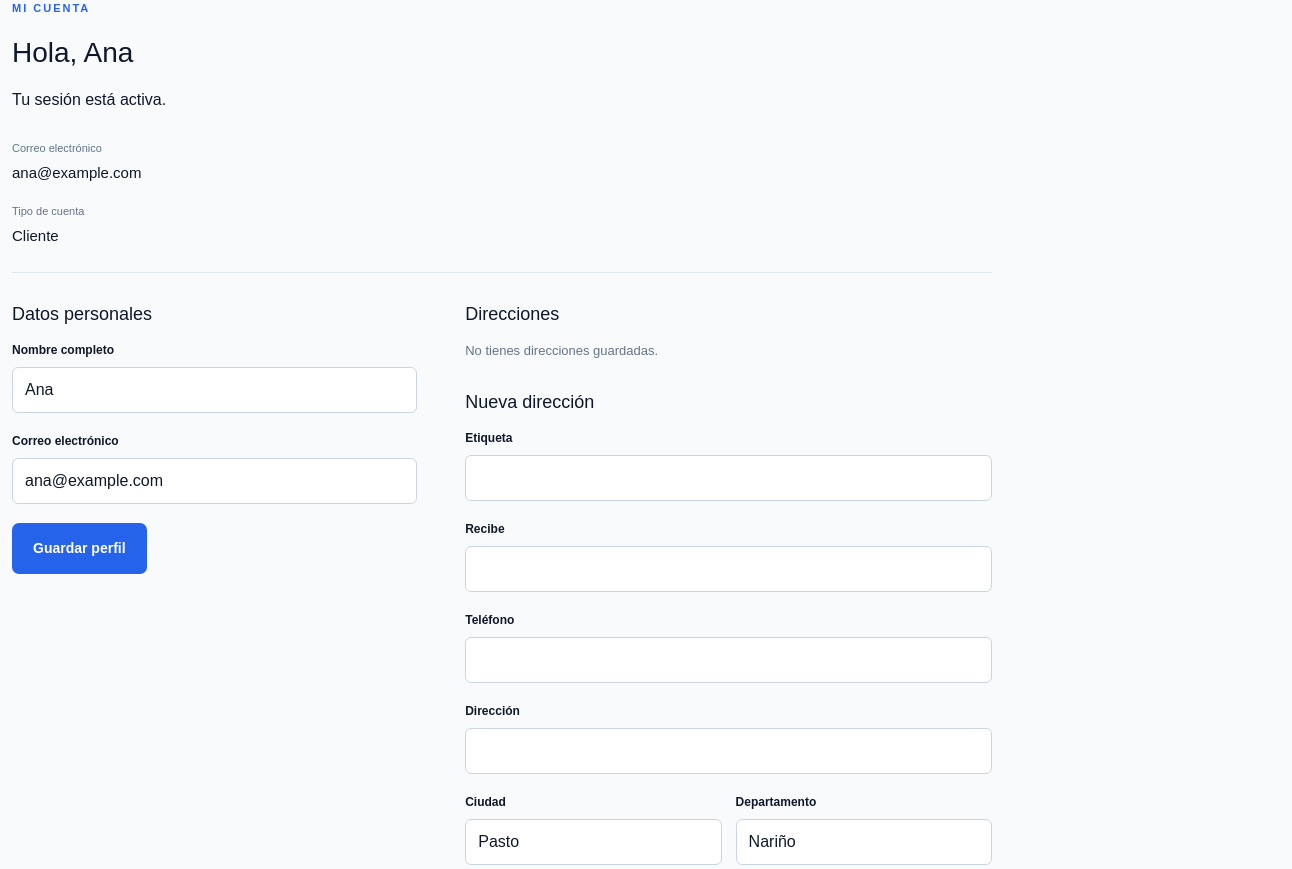
profile and addresses can be edited
This screenshot has width=1292, height=869.
Expected: the heading "Hola, Ana" is shown, [12,36,133,68]
Replace the text in the field labelled "Nombre completo" with "Ana Maria" at (215, 390), box [12,367,417,413]
Click the button "Guardar perfil" at (79, 548), box [12,523,147,574]
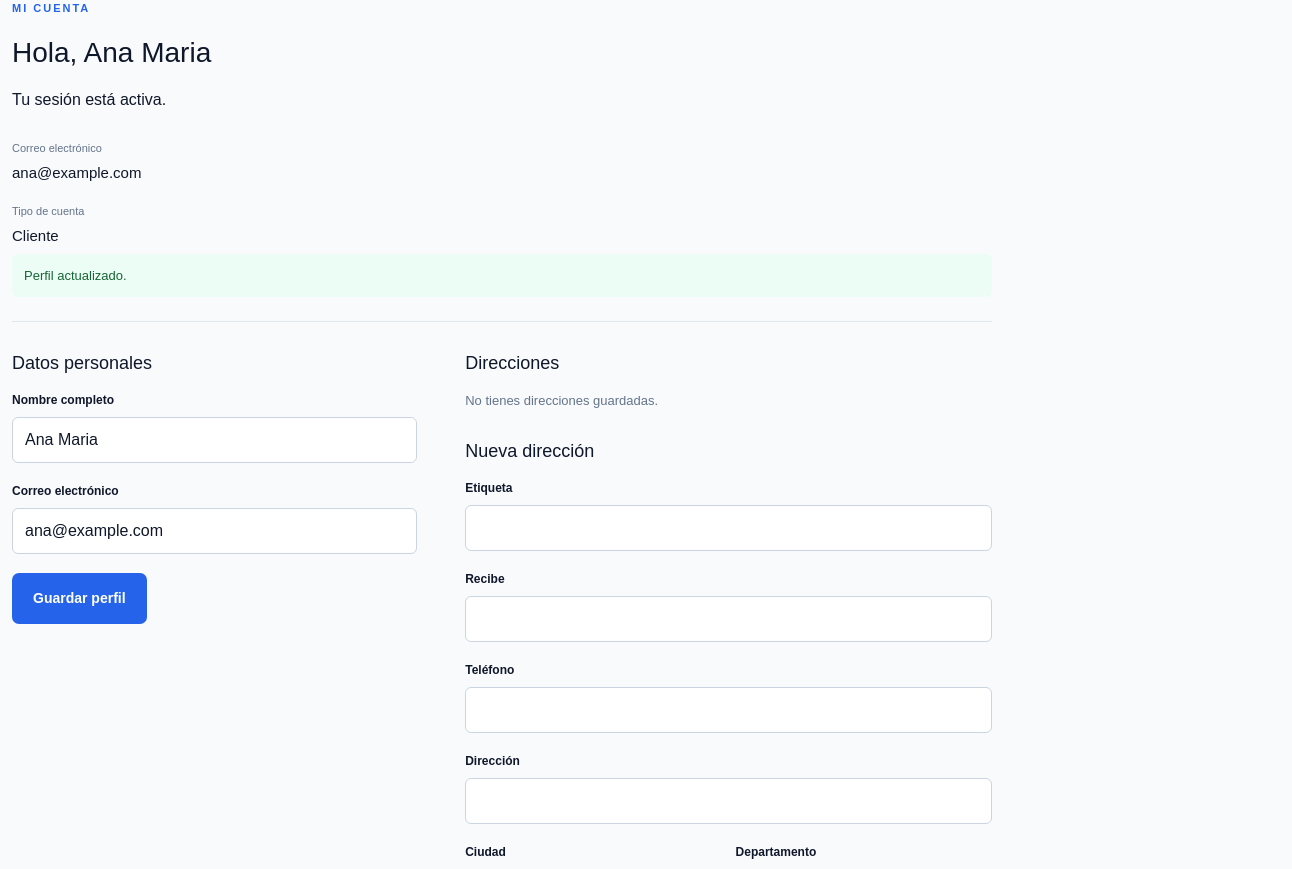
Result: the text "Perfil actualizado." is shown at [12,254,992,297]
Type "Casa" into the field labelled "Etiqueta" at (729, 528), box [465,504,992,550]
Type "Ana Maria" into the field labelled "Recibe" at (729, 618), box [465,596,992,642]
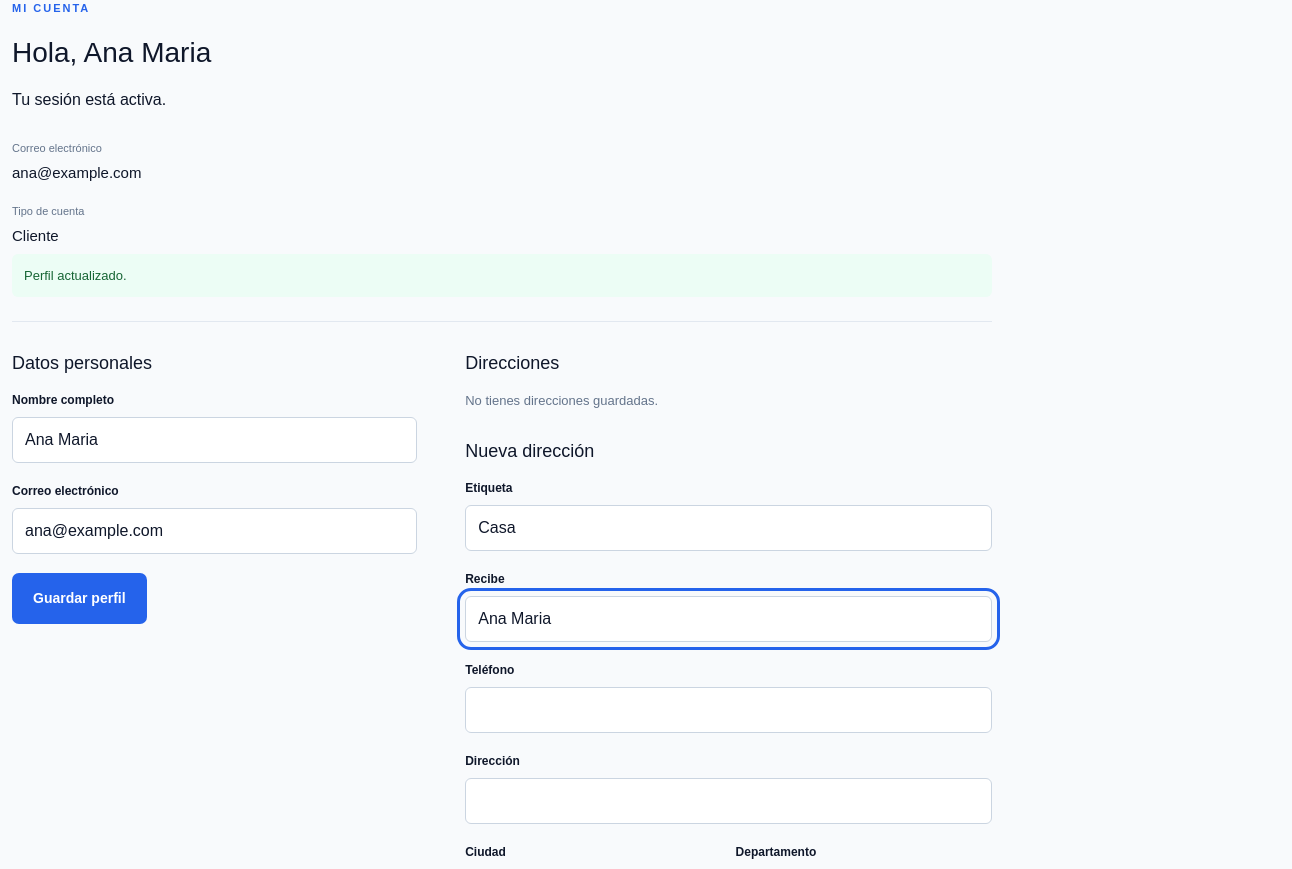
Type "3001234567" into the field labelled "Teléfono" at (729, 710), box [465,686,992,732]
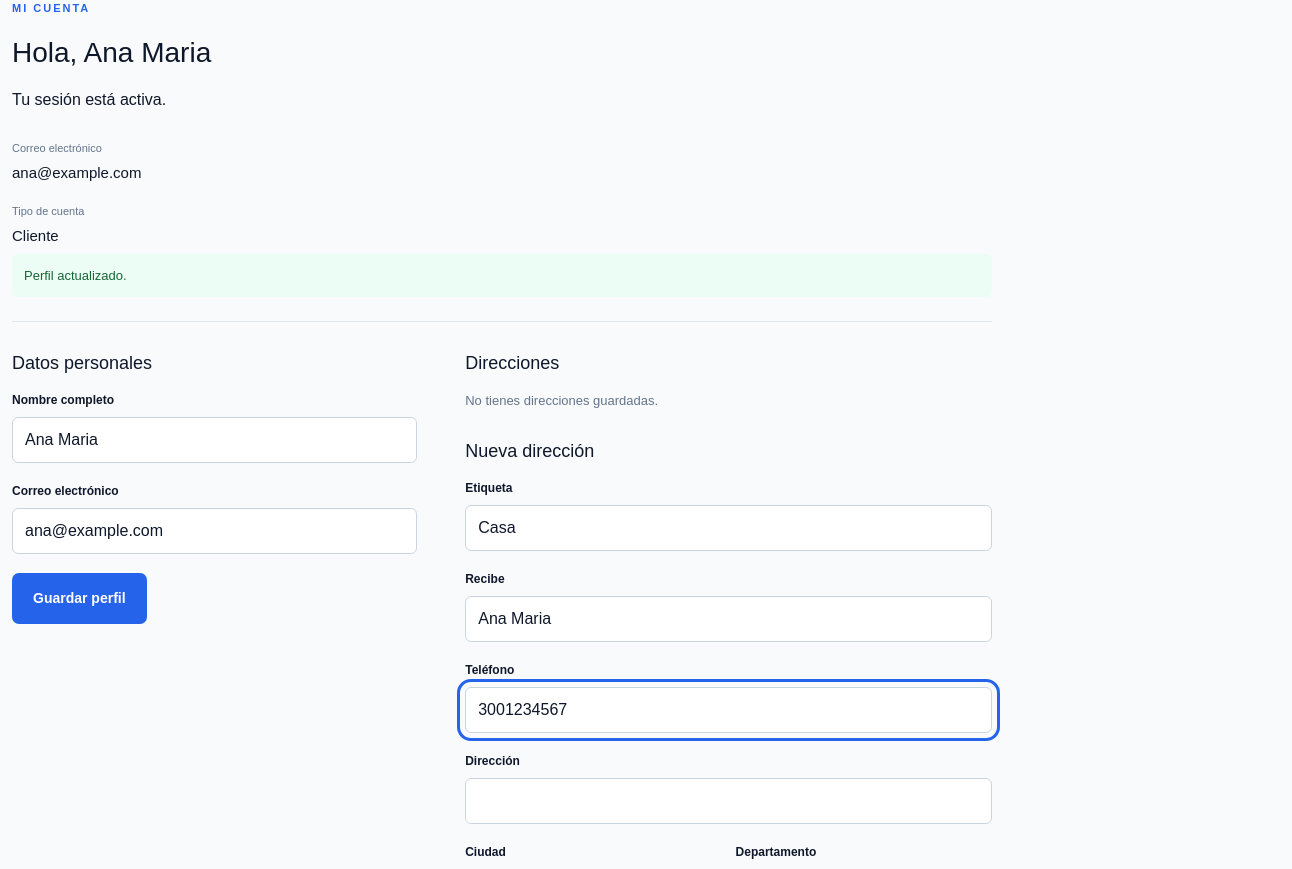
Type "Calle 18 # 20-30" into the field labelled "Dirección" at (729, 800), box [465,778,992,824]
(page scrolled)
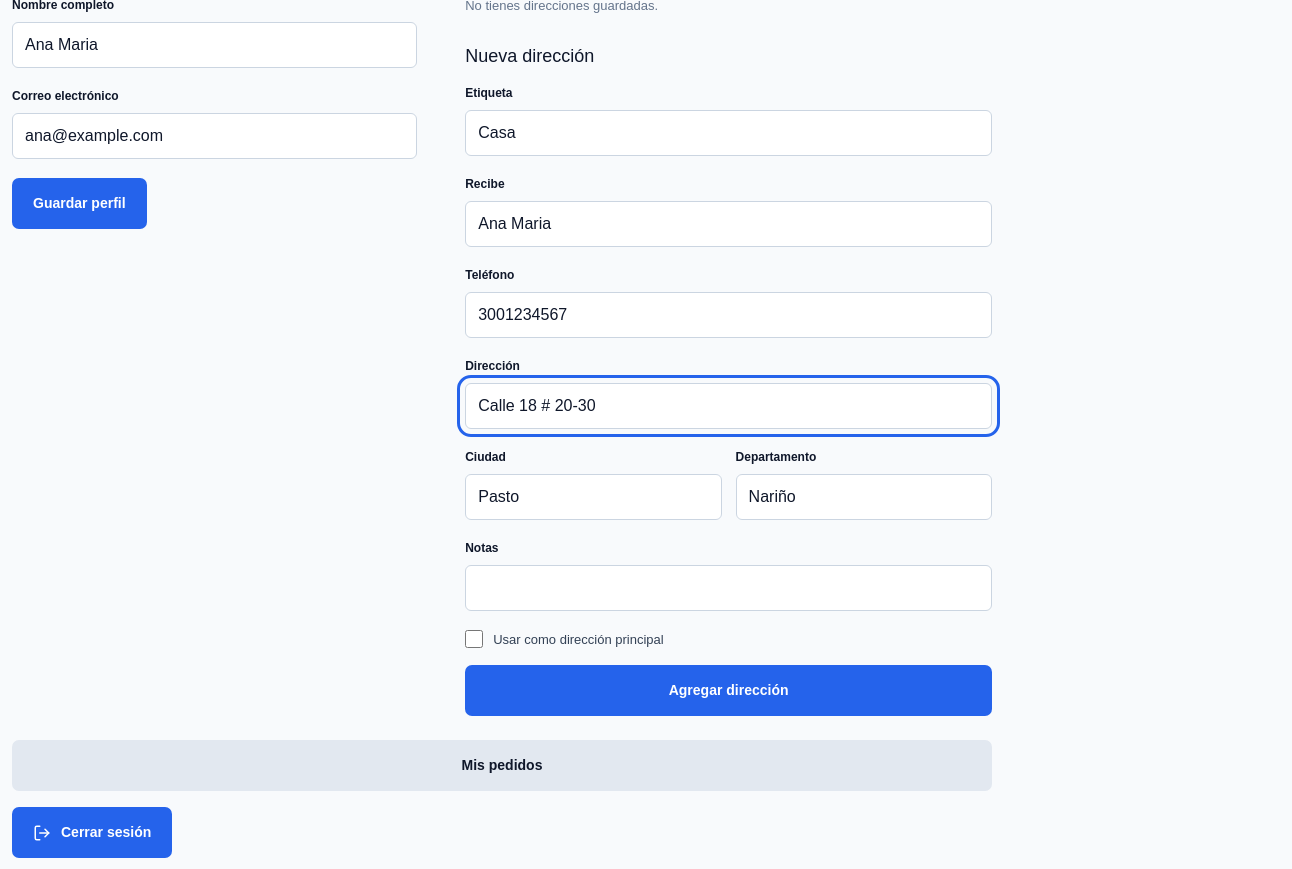
Click the button "Agregar dirección" at (729, 690), box [465,665,992,716]
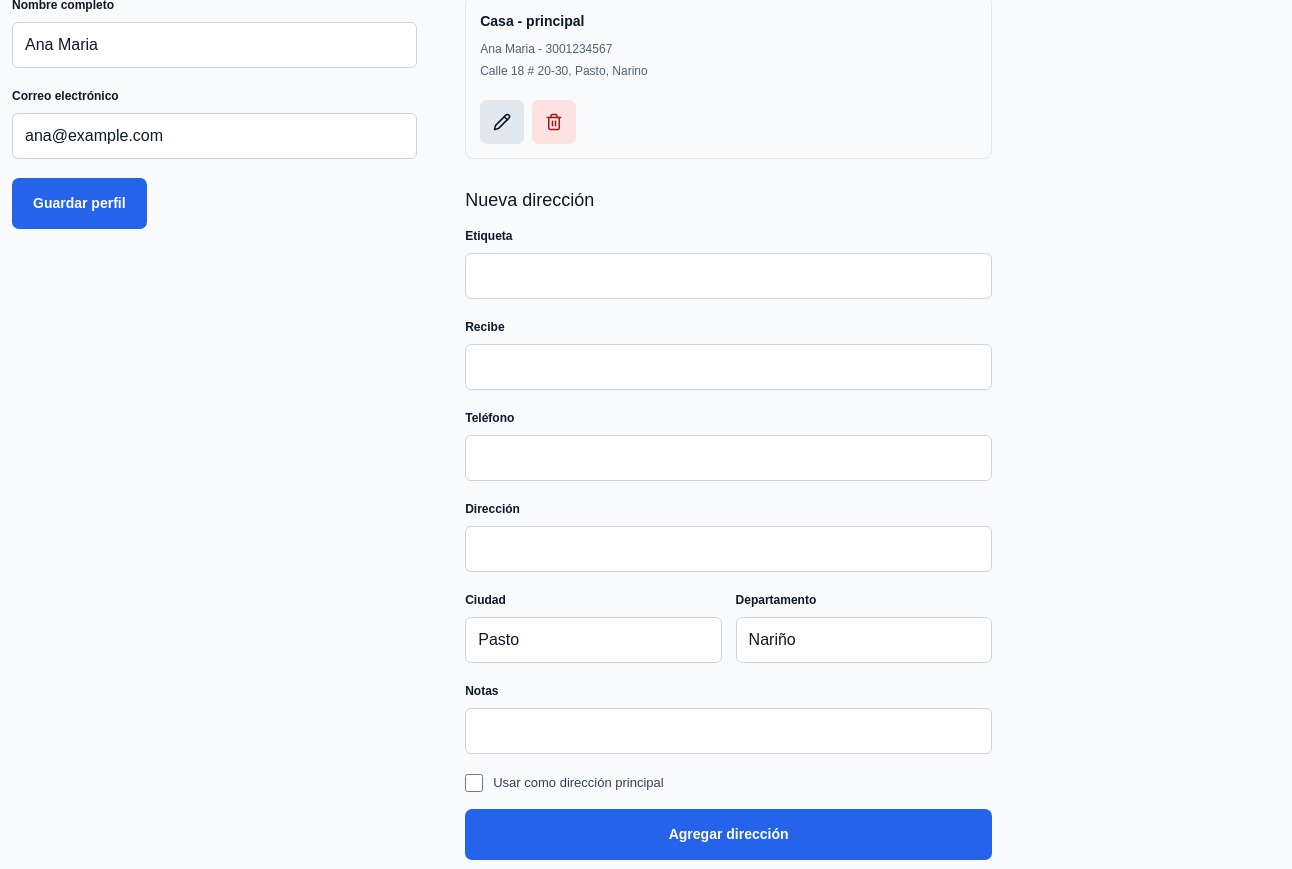
Result: the text "Casa - principal" is shown at [480,12,584,28]
Click the button named "Eliminar Casa" at (554, 122), box [532,100,576,144]
(page scrolled)
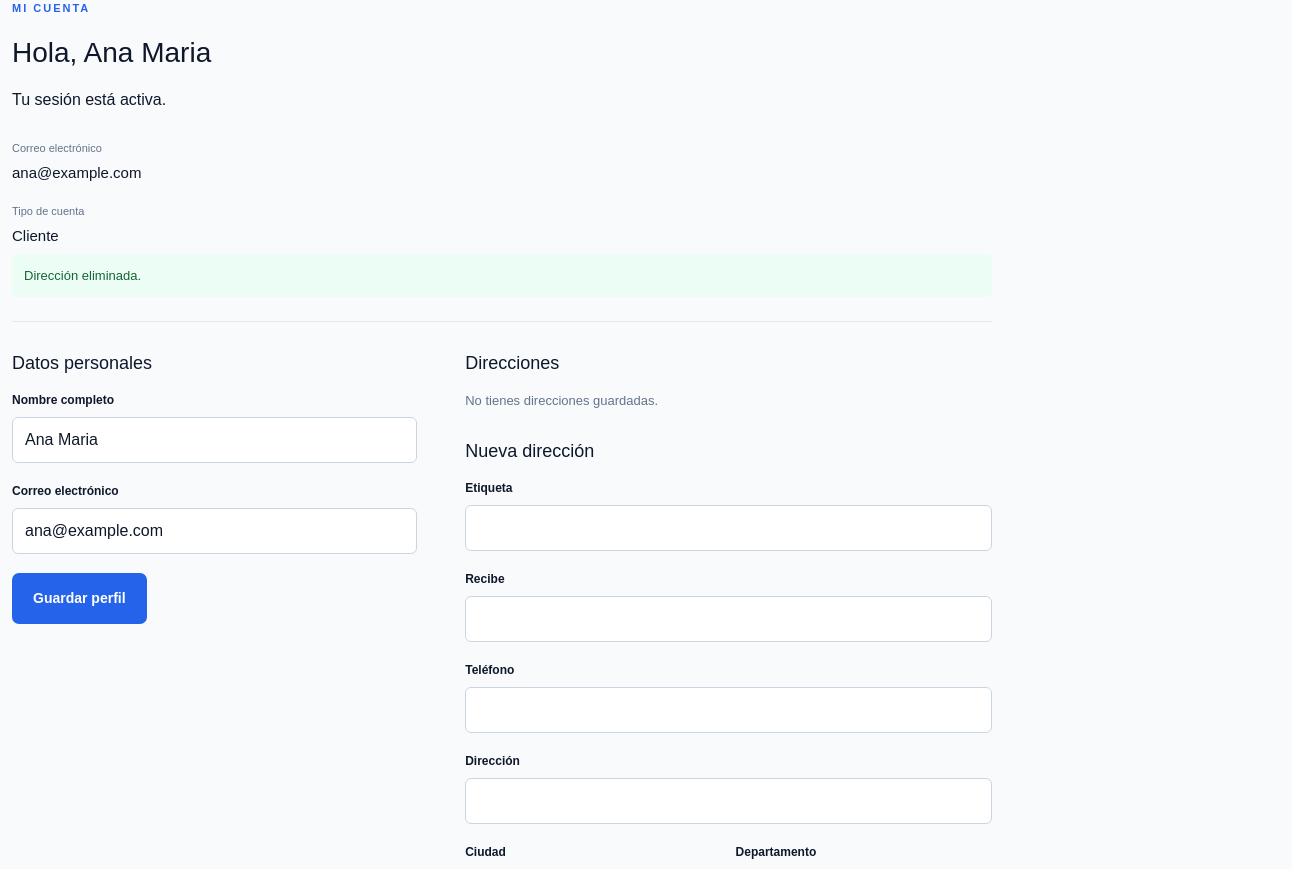
Result: the text "Dirección eliminada." is shown at [12,254,992,297]
